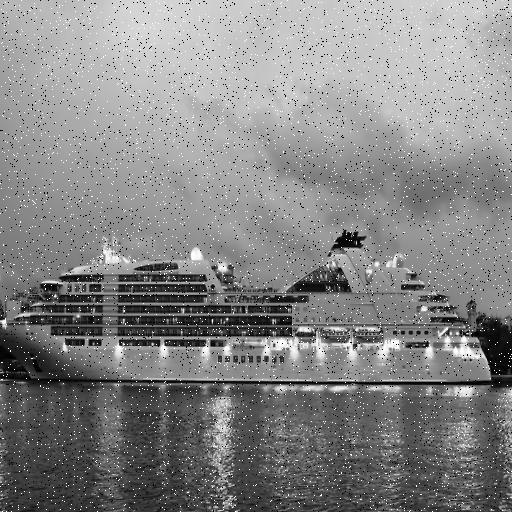cruises: (1, 215, 505, 398)
